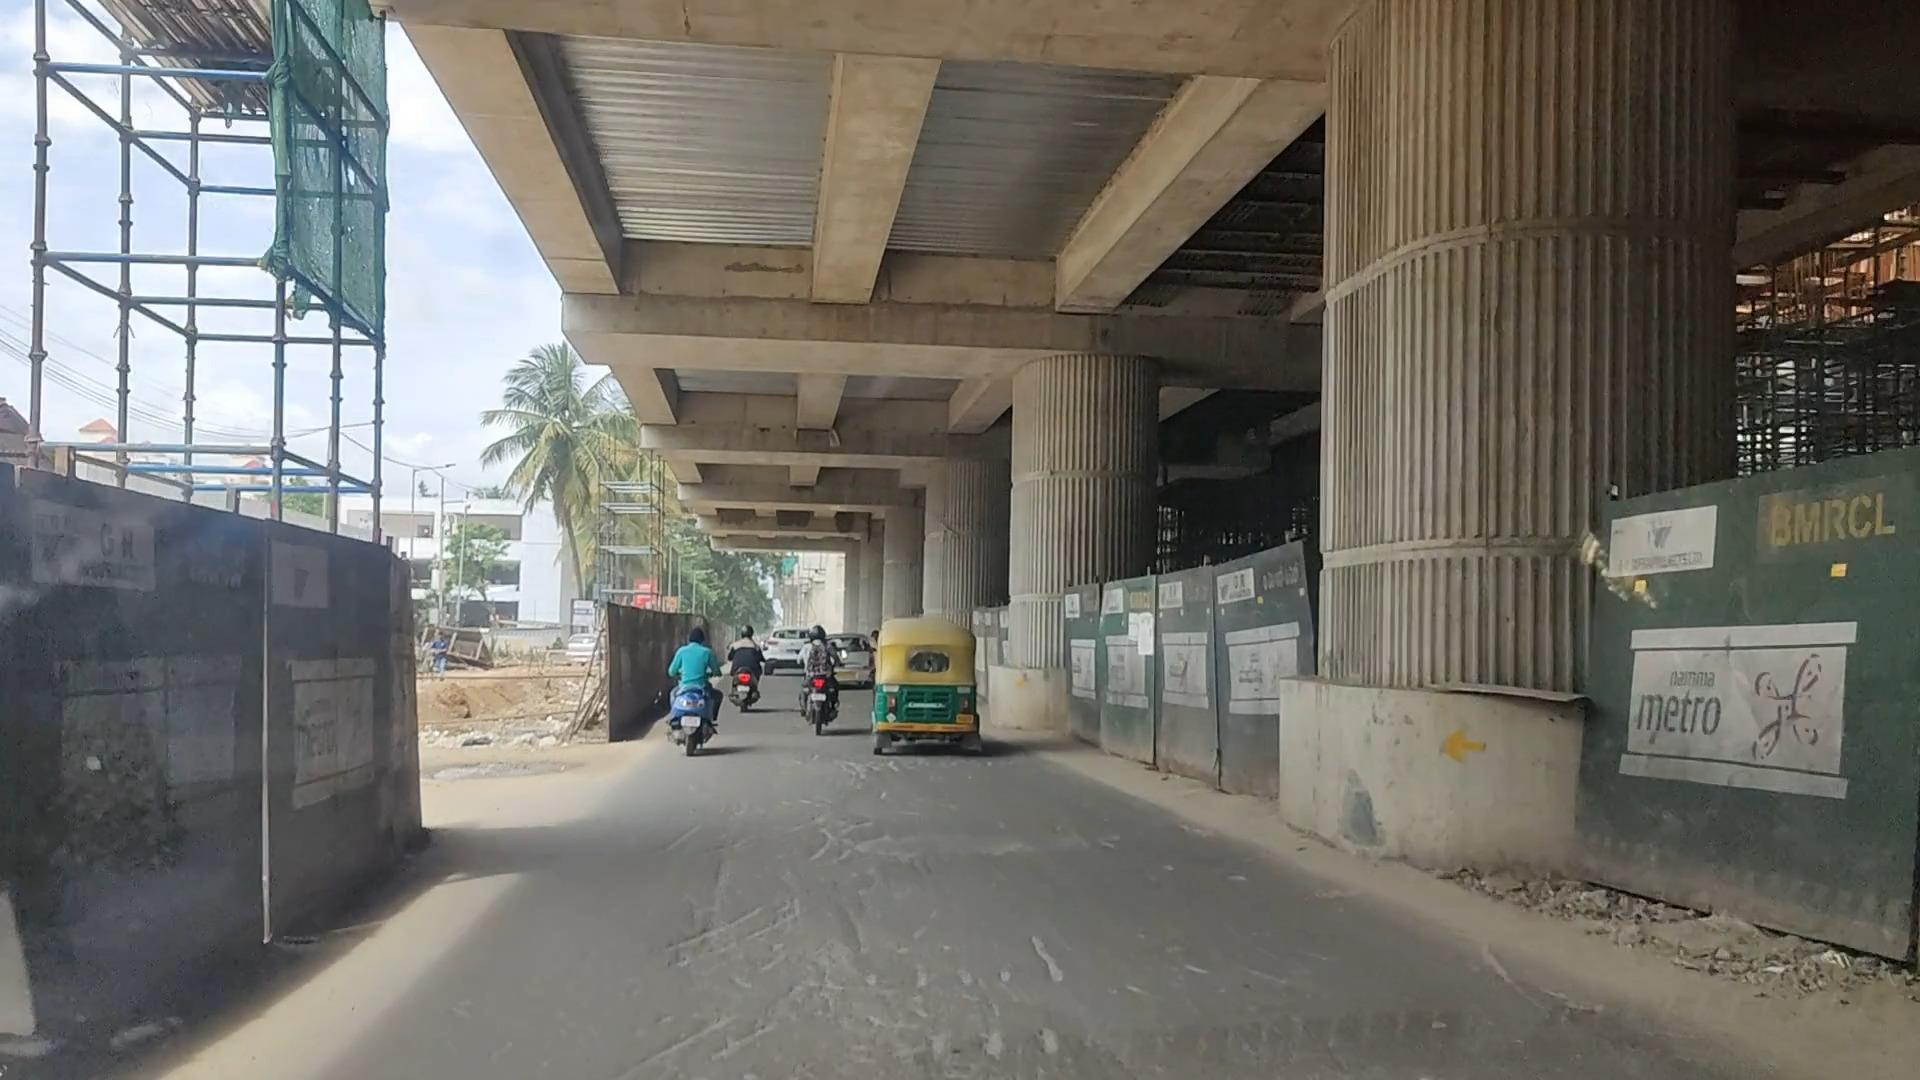LMV: (870, 591, 993, 782), (789, 612, 856, 760), (665, 616, 724, 777)
RoadDamages: (575, 903, 1681, 1072), (704, 771, 1150, 922)
